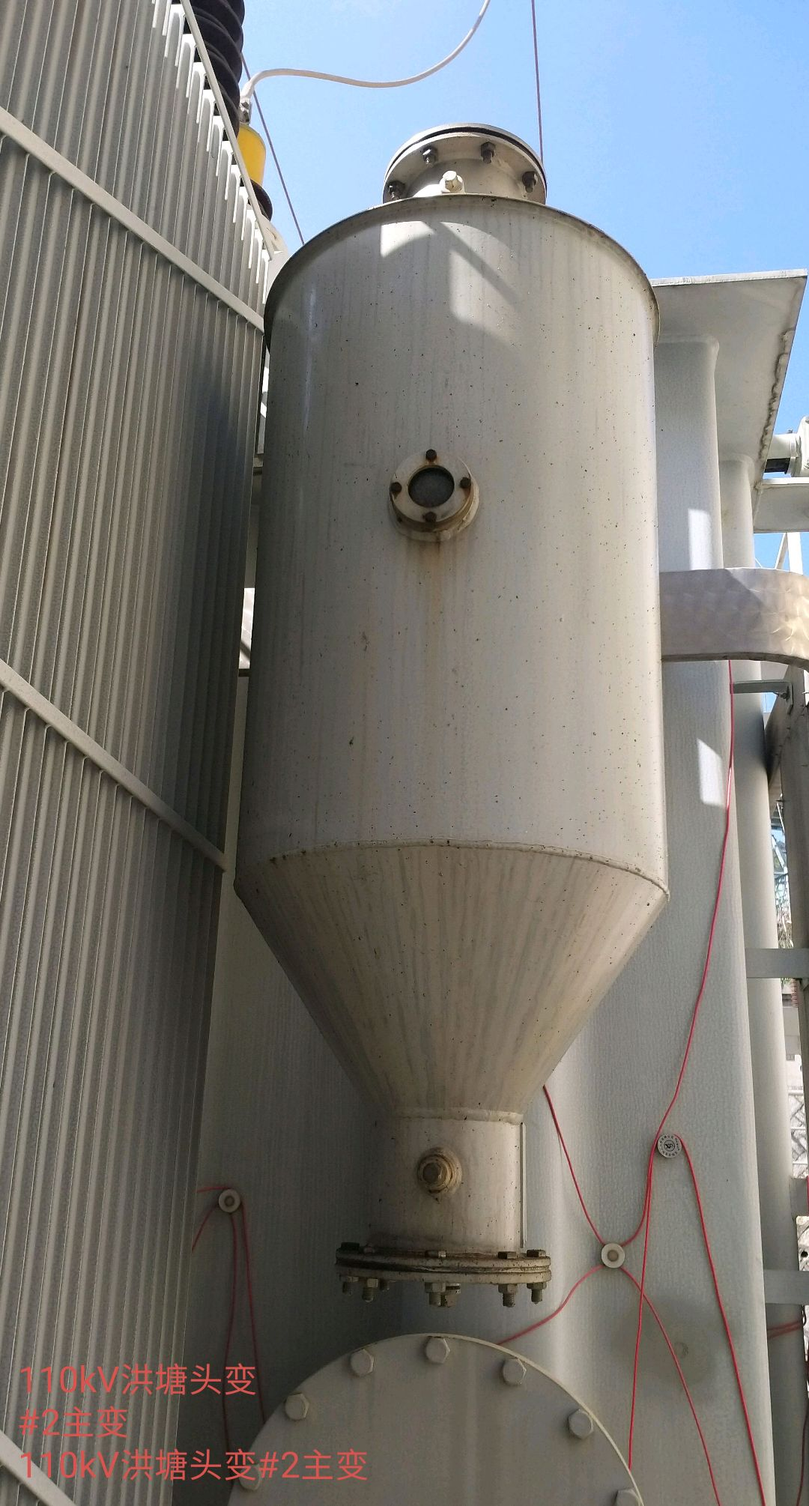cysb_cyg: (213, 115, 680, 1316)
sly_bjbmyw: (225, 183, 742, 1506)
